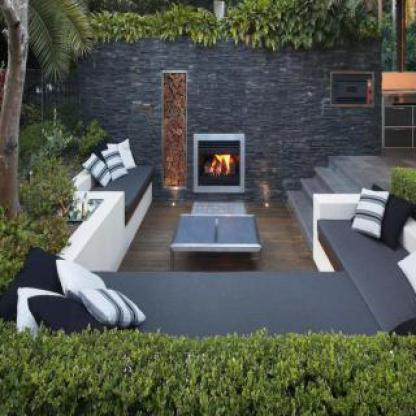fire: (208, 148, 234, 180)
